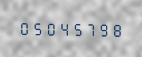eight: (108, 20, 120, 37)
five: (69, 19, 81, 37), (30, 19, 42, 36)
four: (56, 19, 68, 36)
nine: (95, 20, 107, 37)
seven: (82, 20, 94, 37)
zero: (17, 19, 29, 36), (43, 19, 55, 36)
